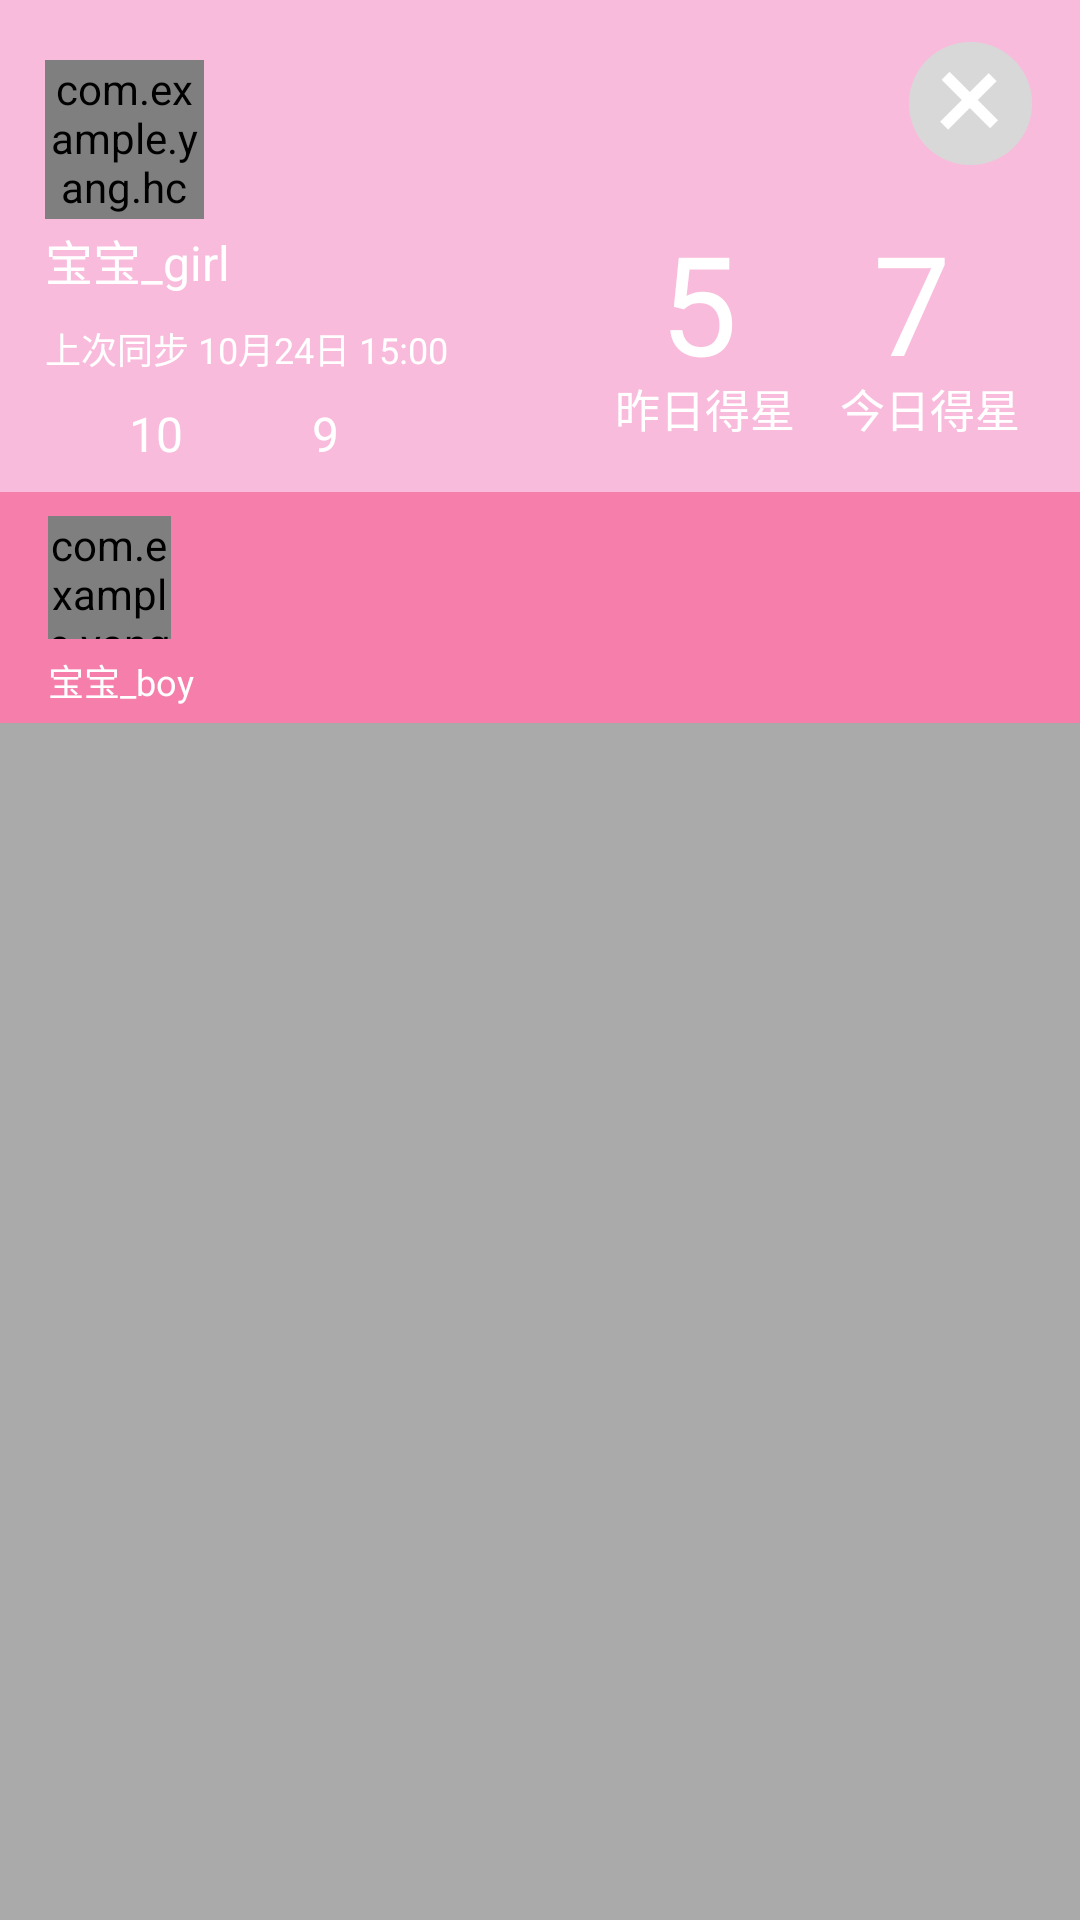

Locate icon controls on the screen. Image size 1080*1920, boxes as (x1, y1, x2, y2).
close: (909, 42, 1032, 165)
